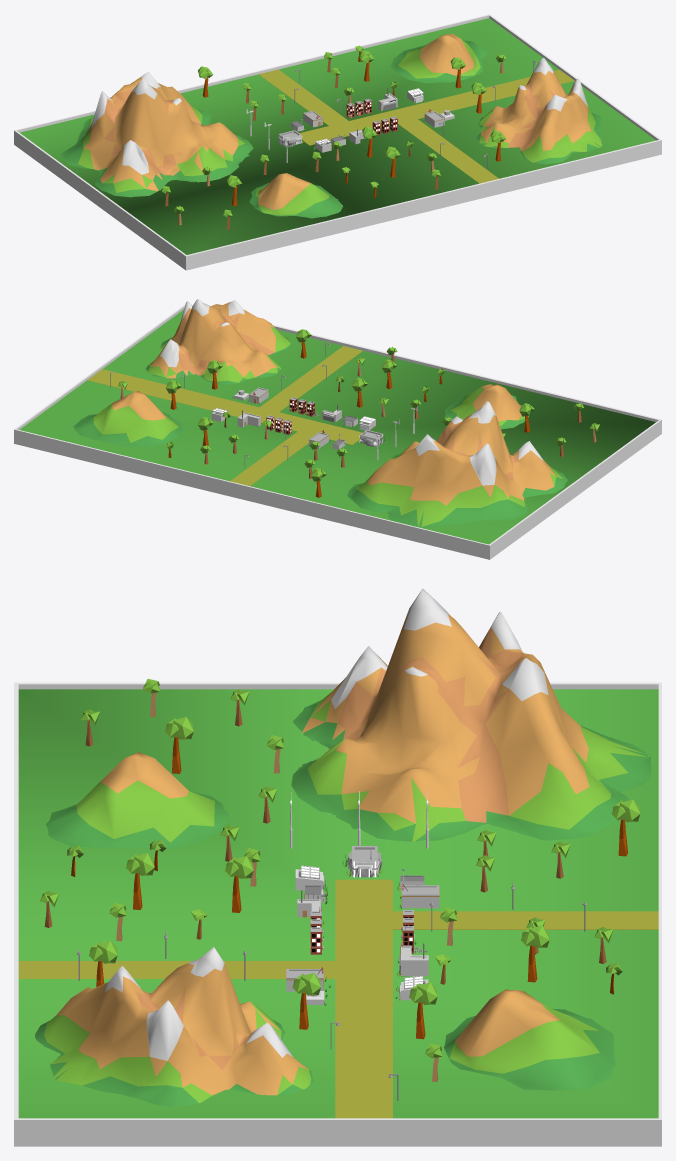
Rendered from stand.glb.
3 renders of one model, top to bottom at view 1: azimuth 30°, elevation 25°; view 2: azimuth 150°, elevation 25°; view 3: azimuth 270°, elevation 25°, orthographic. The views are drawn at different scales.
Parts seen in each view (by area): view 1: Основа, Декор.003, Дорога, Декор.004, Декор.001, Декор.002, Декор; view 2: Основа, Декор.003, Дорога, Декор.004, Декор.001, Декор.002, Декор; view 3: Основа, Декор.003, Дорога, Декор.004, Декор.001, Декор.002, Декор, Подстанция, Больница 2, Завод.
Part boxes in pixels (left/top/right/bottom): Основа: left=14, top=14, right=661, bottom=270; Декор.003: left=61, top=33, right=602, bottom=218; Дорога: left=259, top=69, right=574, bottom=183; Декор.004: left=162, top=126, right=440, bottom=229; Декор.001: left=324, top=45, right=506, bottom=103; Декор.002: left=198, top=66, right=286, bottom=120; Декор: left=471, top=82, right=505, bottom=161; Основа: left=14, top=304, right=661, bottom=559; Декор.003: left=73, top=299, right=567, bottom=527; Дорога: left=87, top=346, right=362, bottom=485; Декор.004: left=336, top=347, right=599, bottom=456; Декор.001: left=118, top=380, right=272, bottom=464; Декор.002: left=304, top=441, right=347, bottom=497; Декор: left=207, top=329, right=311, bottom=389; Основа: left=14, top=682, right=661, bottom=1146; Декор.003: left=35, top=588, right=651, bottom=1107; Дорога: left=19, top=879, right=658, bottom=1118; Декор.004: left=40, top=679, right=284, bottom=941; Декор.001: left=409, top=907, right=622, bottom=1081; Декор.002: left=475, top=799, right=640, bottom=892; Декор: left=89, top=940, right=320, bottom=1029; Подстанция: left=347, top=846, right=382, bottom=877; Больница 2: left=401, top=883, right=439, bottom=908; Завод: left=399, top=943, right=428, bottom=976.
Size of the model in its own units: 380 by 73.24 by 238.
